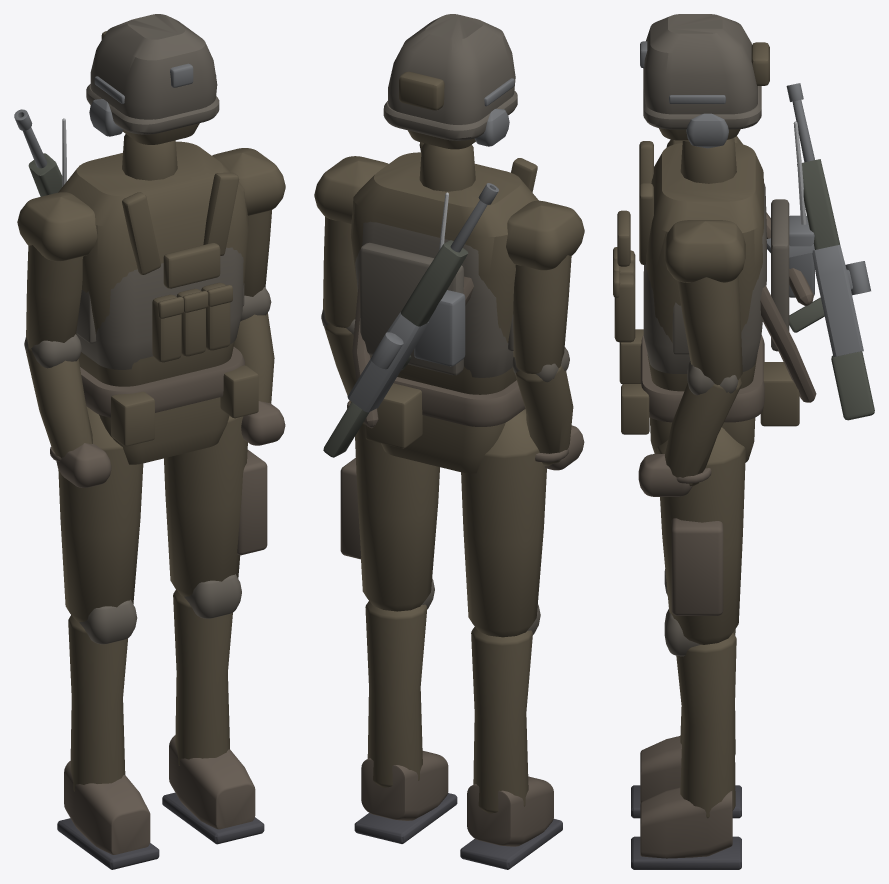
File: militia.fbx
The picture shows the model from 3 angles, left to right: view 1: azimuth 30°, elevation 25°; view 2: azimuth 150°, elevation 25°; view 3: azimuth 270°, elevation 25°; orthographic projection.
Parts seen in each view (by area): view 1: Body, ShinL, ShinR, ThighR, ThighL, UpperArmL, ForearmL, UpperArmR, ForearmR; view 2: Body, ShinR, ShinL, ThighL, ThighR, UpperArmL, UpperArmR, ForearmL, ForearmR; view 3: Body, ShinR, ThighR, UpperArmR, ForearmR, ShinL.
Part boxes in pixels (x1,y1,x2,y2): Body: [14, 14, 258, 464]; ShinL: [57, 599, 159, 869]; ShinR: [162, 574, 264, 844]; ThighR: [164, 416, 267, 596]; ThighL: [58, 406, 143, 622]; UpperArmL: [17, 192, 97, 348]; ForearmL: [24, 334, 111, 487]; UpperArmR: [212, 148, 285, 296]; ForearmR: [233, 287, 285, 445]; Body: [323, 14, 538, 473]; ShinR: [354, 578, 457, 843]; ShinL: [460, 604, 562, 869]; ThighL: [461, 409, 546, 637]; ThighR: [340, 422, 439, 611]; UpperArmL: [506, 200, 584, 373]; UpperArmR: [314, 156, 388, 327]; ForearmL: [512, 347, 584, 470]; ForearmR: [321, 309, 356, 408]; Body: [613, 14, 874, 462]; ShinR: [631, 609, 741, 869]; ThighR: [657, 427, 745, 644]; UpperArmR: [664, 220, 745, 384]; ForearmR: [638, 361, 741, 496]; ShinL: [631, 569, 741, 818].
Bounding box in the file's own units: 0.5444 × 1.73 × 0.5061.
